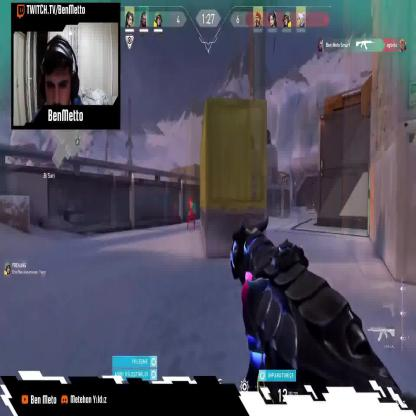enemy: (187, 197, 196, 229)
enemy_head: (189, 197, 193, 203)
